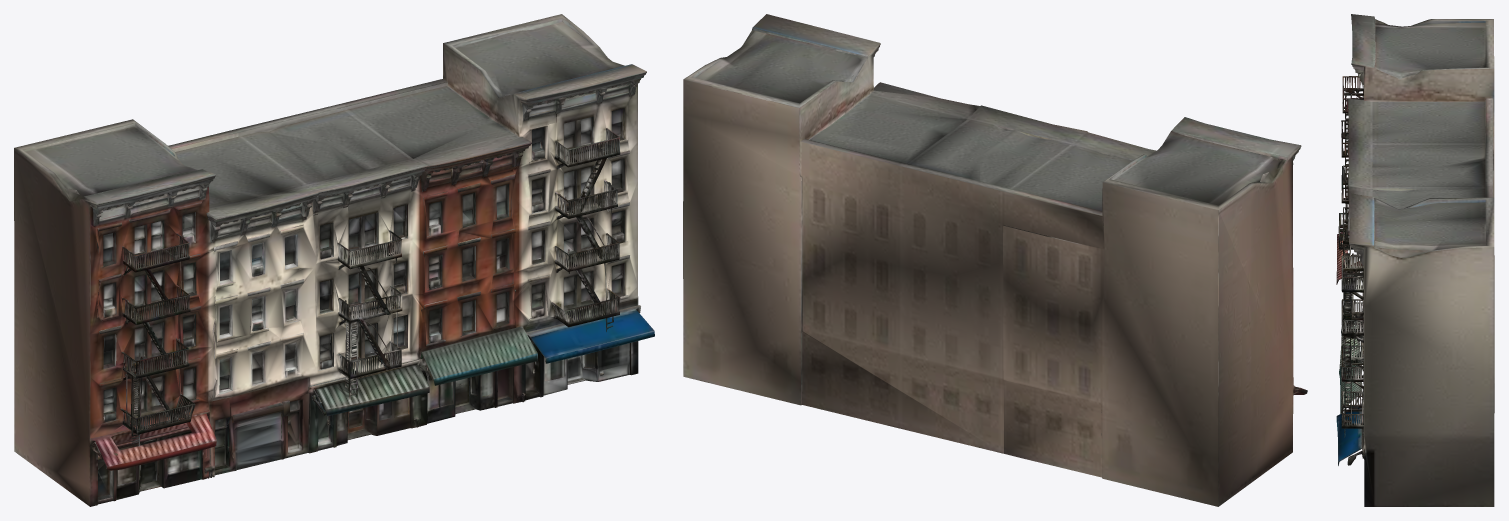
The model's file is row_five_b.glb.
3 renders of one model, left to right at view 1: azimuth 30°, elevation 25°; view 2: azimuth 150°, elevation 25°; view 3: azimuth 270°, elevation 25°, orthographic. The views are drawn at different scales.
Visible parts, largest first — view 1: mesh_node; view 2: mesh_node; view 3: mesh_node.
Part boxes in pixels (box(x1,y1,x2,y2)): mesh_node: box(14, 14, 654, 506); mesh_node: box(683, 14, 1307, 506); mesh_node: box(1336, 14, 1494, 506).
Size of the model in its own units: 31.63 by 17 by 9.21.
Materials: 1 (1 with a texture image).
